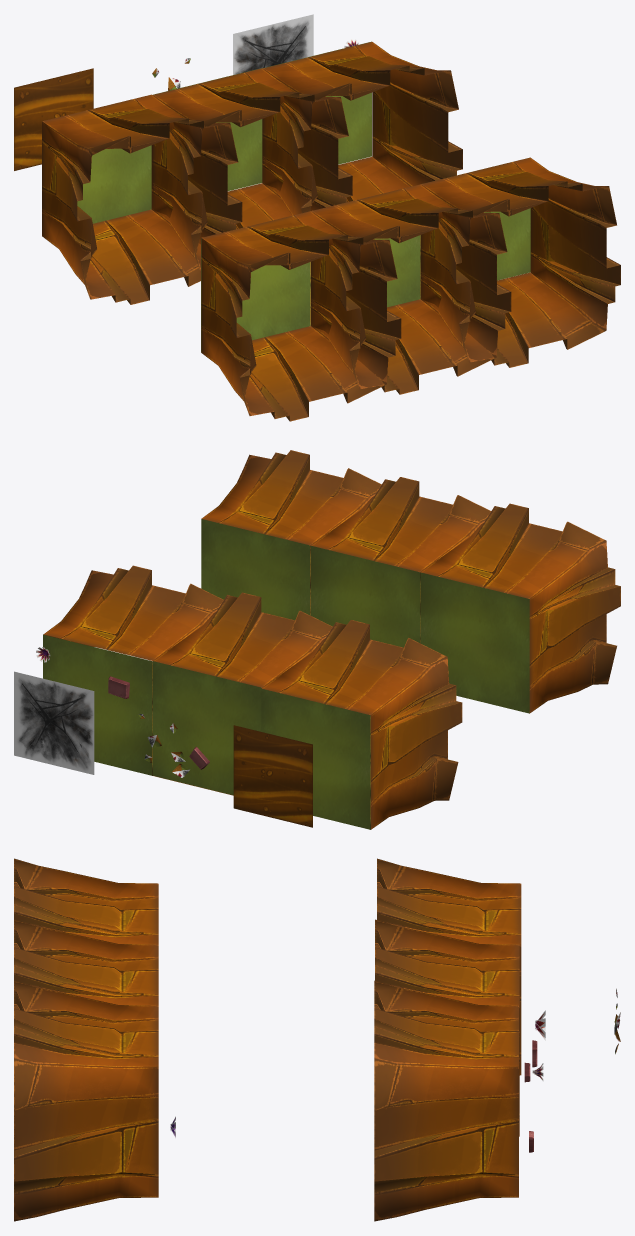
File: CudeTiles.FBX
3 renders of one model, top to bottom at view 1: azimuth 30°, elevation 25°; view 2: azimuth 150°, elevation 25°; view 3: azimuth 270°, elevation 25°, orthographic. The views are drawn at different scales.
Parts seen in each view (by area): view 1: UnDug4, Undug6, UnDug1, Undug5, UnDug3, UnDug2, Dug1, Dug3; view 2: UnDug4, UnDug1, UnDug2, UnDug3, Undug6, Undug5, Dug3, Dug1, Dug2; view 3: UnDug3, Undug6, UnDug1, UnDug2, Undug5, UnDug4.
Boxes of the visible parts, left/top/right/bottom form: UnDug4: left=201, top=211, right=401, bottom=421; Undug6: left=420, top=157, right=620, bottom=367; UnDug1: left=42, top=94, right=242, bottom=304; Undug5: left=311, top=184, right=511, bottom=394; UnDug3: left=262, top=39, right=462, bottom=215; UnDug2: left=152, top=68, right=352, bottom=272; Dug1: left=14, top=68, right=93, bottom=170; Dug3: left=233, top=14, right=313, bottom=74; UnDug4: left=420, top=503, right=620, bottom=713; UnDug1: left=261, top=620, right=462, bottom=829; UnDug2: left=152, top=592, right=332, bottom=795; UnDug3: left=36, top=565, right=223, bottom=775; Undug6: left=201, top=450, right=381, bottom=620; Undug5: left=310, top=477, right=491, bottom=647; Dug3: left=14, top=671, right=94, bottom=774; Dug1: left=233, top=725, right=312, bottom=827; Dug2: left=138, top=714, right=190, bottom=777; UnDug3: left=374, top=980, right=543, bottom=1221; Undug6: left=14, top=981, right=175, bottom=1221; UnDug1: left=377, top=858, right=545, bottom=1075; UnDug2: left=375, top=919, right=530, bottom=1136; Undug5: left=14, top=920, right=158, bottom=1005; UnDug4: left=14, top=858, right=158, bottom=944.
Size of the model in its own units: 70.02 by 84.04 by 30.02.
